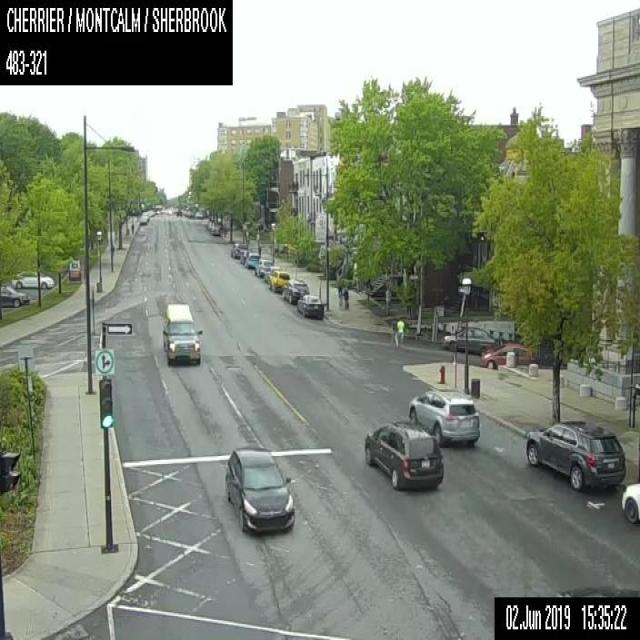pedestrian: (390, 318, 398, 348), (396, 316, 405, 341), (342, 286, 348, 308), (338, 284, 342, 306), (130, 216, 134, 234)
vehicle: (524, 419, 626, 489), (225, 446, 293, 534), (363, 420, 442, 491), (408, 388, 479, 446), (161, 302, 203, 363), (442, 325, 495, 355), (481, 342, 538, 367), (620, 481, 639, 524), (11, 269, 54, 288), (282, 277, 308, 303), (296, 294, 323, 318), (0, 283, 28, 306), (268, 268, 289, 292), (254, 257, 272, 276), (263, 265, 278, 282), (230, 242, 246, 257), (244, 252, 259, 267), (239, 248, 252, 264), (210, 226, 219, 234), (138, 215, 146, 224), (141, 212, 149, 220)
